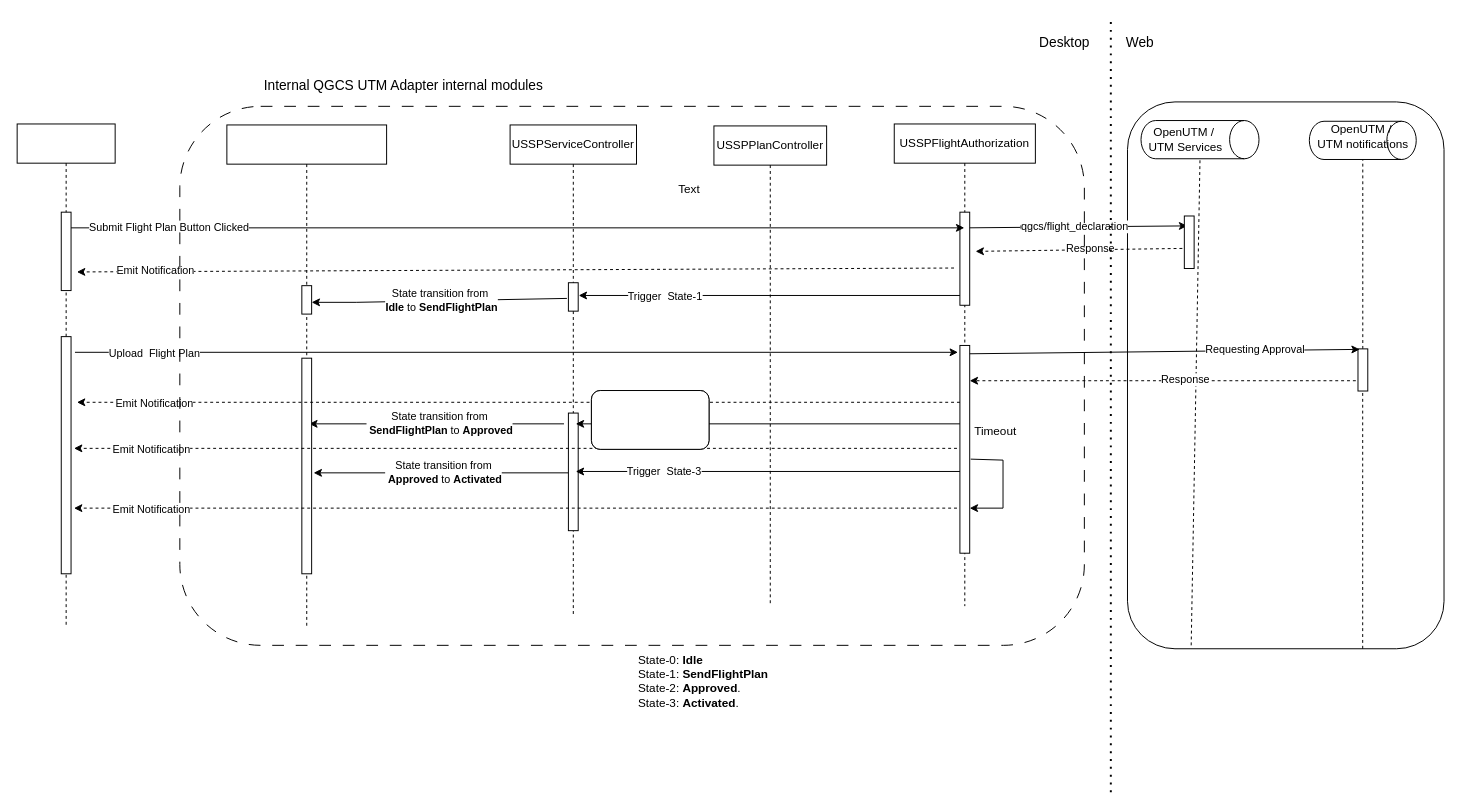
This 1461x810 diagram has some shape labels left out. Here are the shapes that lost their labels. From the top down, the centre of each, then its label:
point 65,374: QGCS UI / Adapter Toolbar
point 306,375: USSPVehicle
